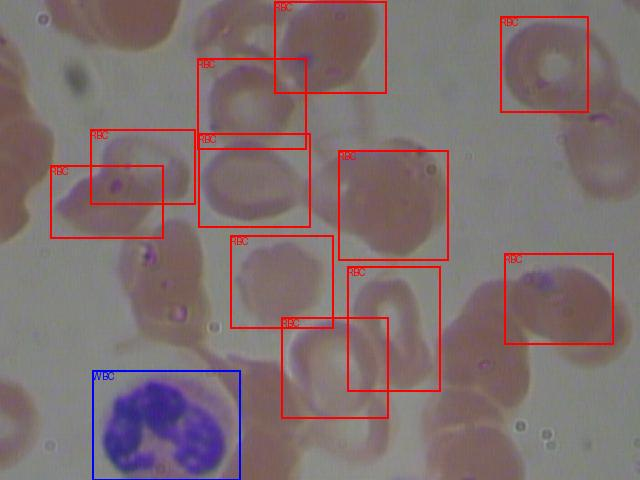RBC: (338, 150, 448, 260), (347, 266, 440, 391), (281, 317, 388, 418), (198, 133, 310, 227), (274, 1, 386, 93), (504, 253, 613, 344), (197, 58, 306, 149), (230, 235, 333, 328), (500, 16, 588, 112), (50, 165, 163, 238), (90, 129, 195, 204)
WBC: (92, 370, 240, 480)
